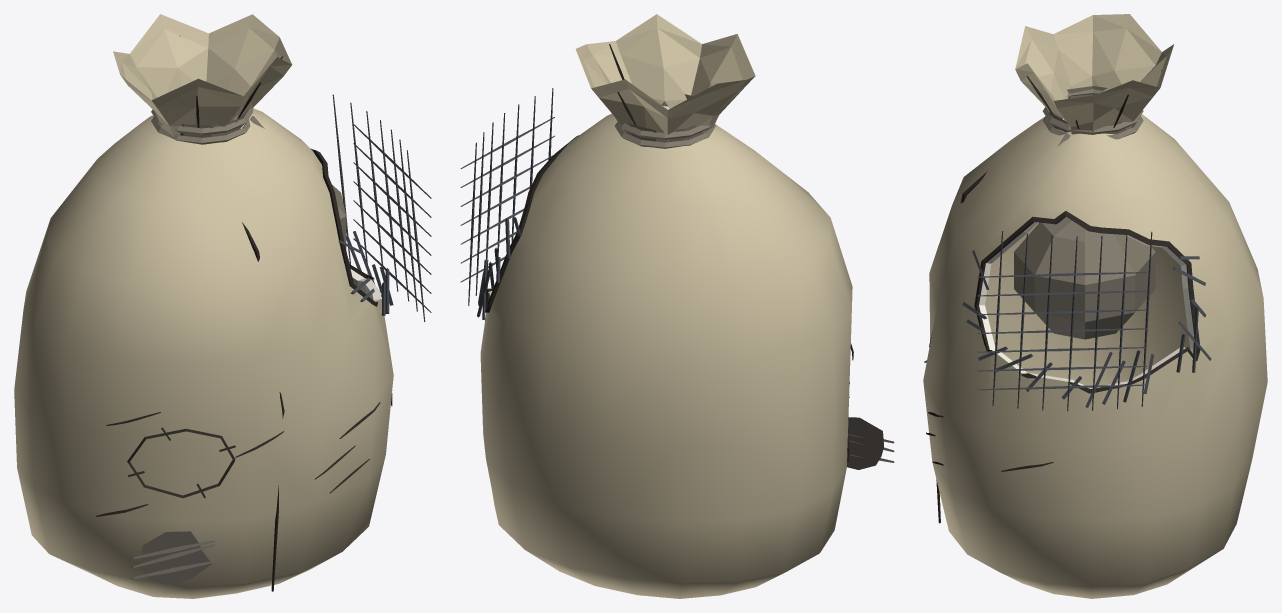
The model's file is Sack.fbx.
3 views of the same model, side by side, from view 1: azimuth 30°, elevation 25°; view 2: azimuth 150°, elevation 25°; view 3: azimuth 270°, elevation 25° (orthographic).
Parts seen in each view (by area): view 1: Body, Mouth, Lines; view 2: Body, Mouth, Lines; view 3: Body, Mouth, Lines.
Part boxes in pixels (left/top/right/bottom): Body: left=14, top=108, right=393, bottom=598; Mouth: left=113, top=14, right=292, bottom=144; Lines: left=96, top=35, right=431, bottom=591; Body: left=480, top=106, right=852, bottom=598; Mouth: left=575, top=14, right=755, bottom=148; Lines: left=460, top=44, right=894, bottom=469; Body: left=923, top=114, right=1267, bottom=598; Mouth: left=1015, top=14, right=1173, bottom=146; Lines: left=924, top=70, right=1211, bottom=523.
Size of the model in its own units: 0.9754 by 1.33 by 0.8314.
